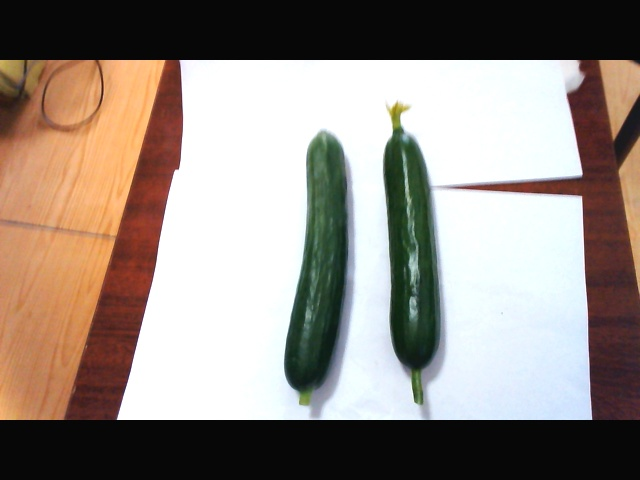cucumber: (377, 102, 444, 403), (284, 130, 350, 401)
